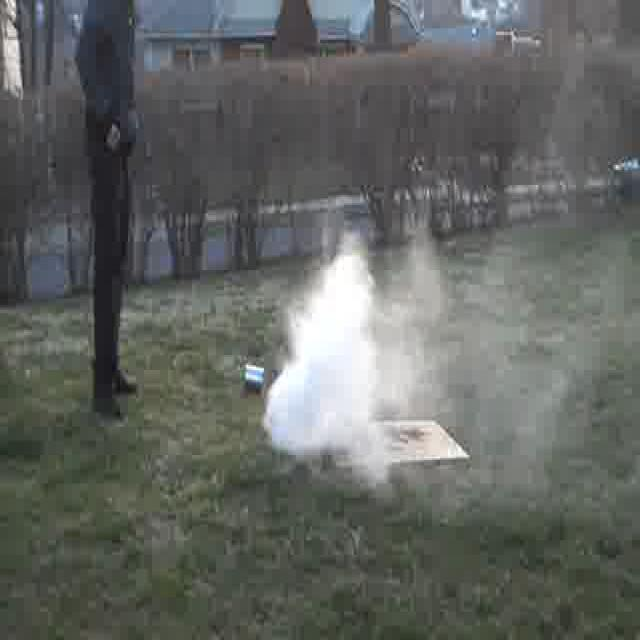Smoke: (270, 262, 394, 466)
